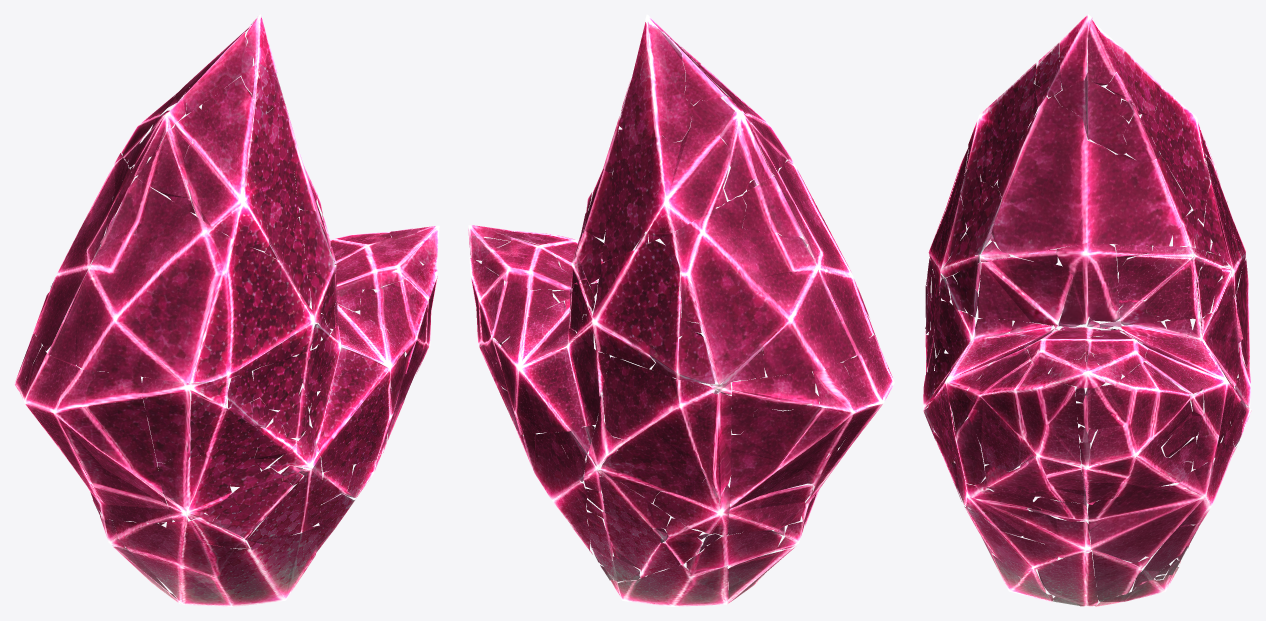
File: low_poly_pink_gem.glb
The picture shows the model from 3 angles, left to right: view 1: azimuth 30°, elevation 25°; view 2: azimuth 150°, elevation 25°; view 3: azimuth 270°, elevation 25°; orthographic projection. The views are drawn at different scales.
Parts seen in each view (by area): view 1: low-low-poly; view 2: low-low-poly; view 3: low-low-poly.
Boxes of the visible parts, x1,y1,x2,y2 form: low-low-poly: (14, 14, 439, 606); low-low-poly: (468, 14, 894, 606); low-low-poly: (923, 14, 1251, 606).
Size of the model in its own units: 0.7627 by 0.9806 by 0.4977.
1 material, 1 textured.
